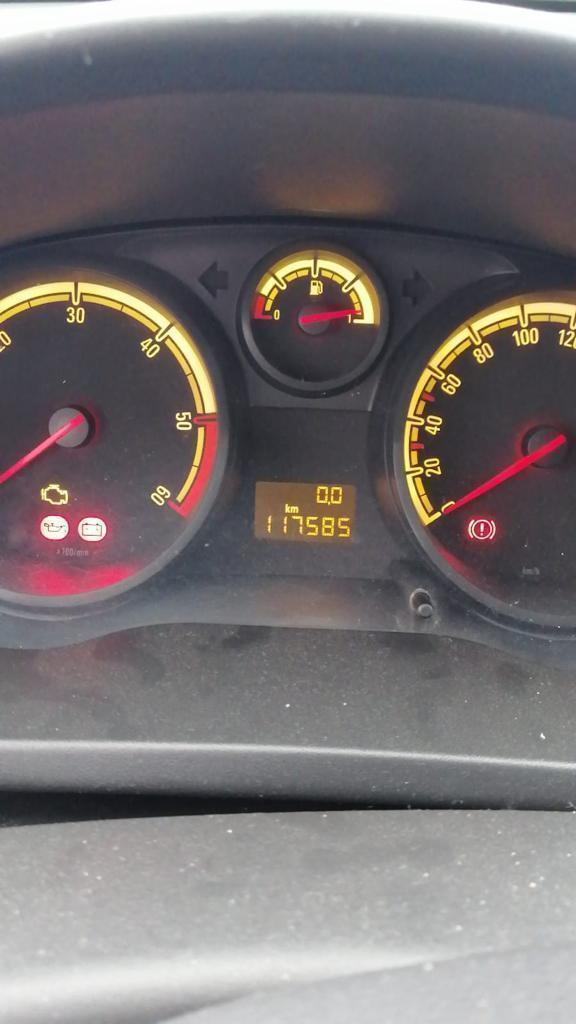,: (326, 500, 330, 506)
0: (315, 485, 329, 503), (329, 486, 342, 504)
1: (266, 514, 272, 533), (282, 516, 288, 534)
5: (305, 515, 319, 536), (337, 517, 350, 537)
7: (290, 514, 303, 535)
8: (321, 516, 334, 536)
X: (283, 503, 290, 513), (290, 505, 298, 513)
odometer: (250, 479, 357, 544)
